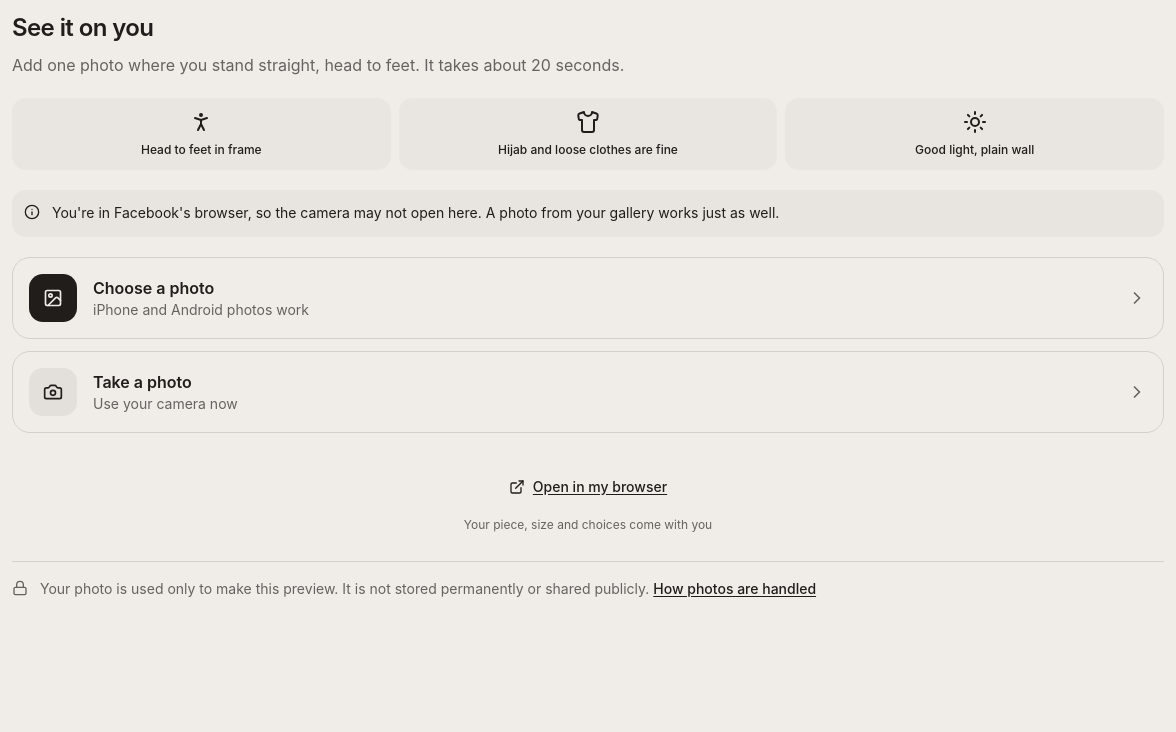
Test: the photo step inside an app › copies the link on iOS and says where to open it, or shows it to copy by hand
Click the button "Open in my browser" at (588, 487), box top-left (493, 465), bottom-right (683, 509)
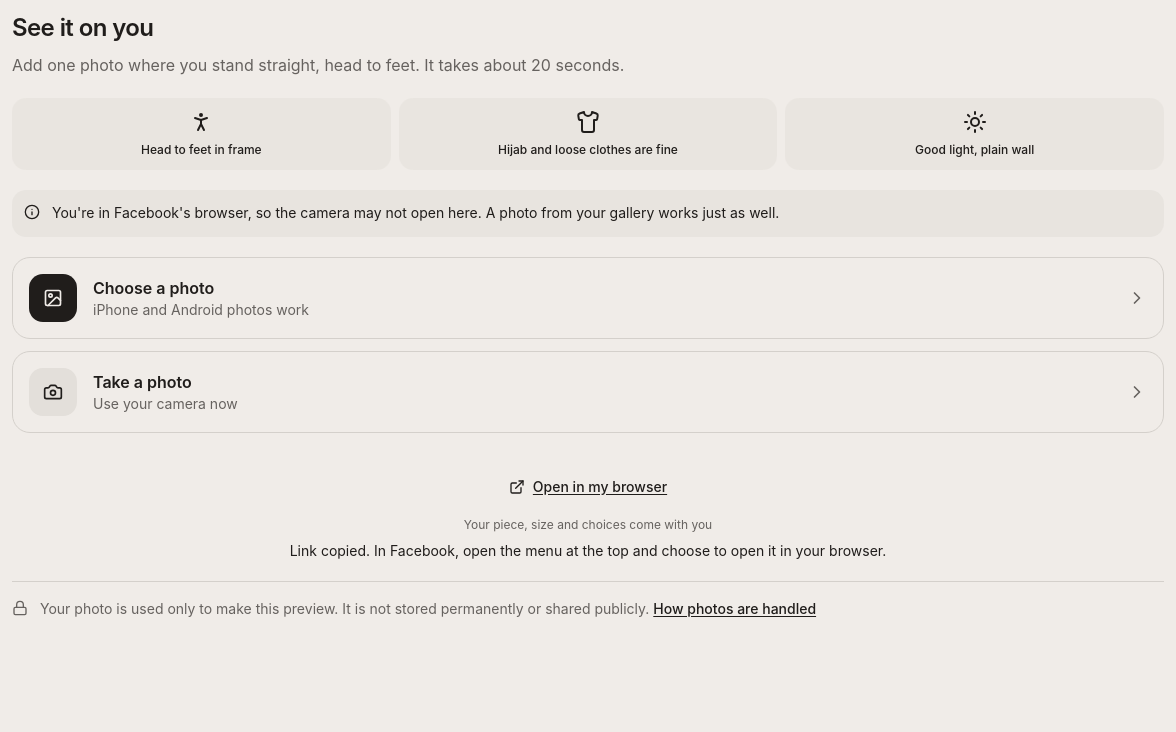
expect the text "Link copied. In Facebook, open the menu at the top and choose to open it in your browser." is shown: met, box top-left (290, 542), bottom-right (886, 559)
Click the button "Open in my browser" at (588, 487), box top-left (493, 465), bottom-right (683, 509)
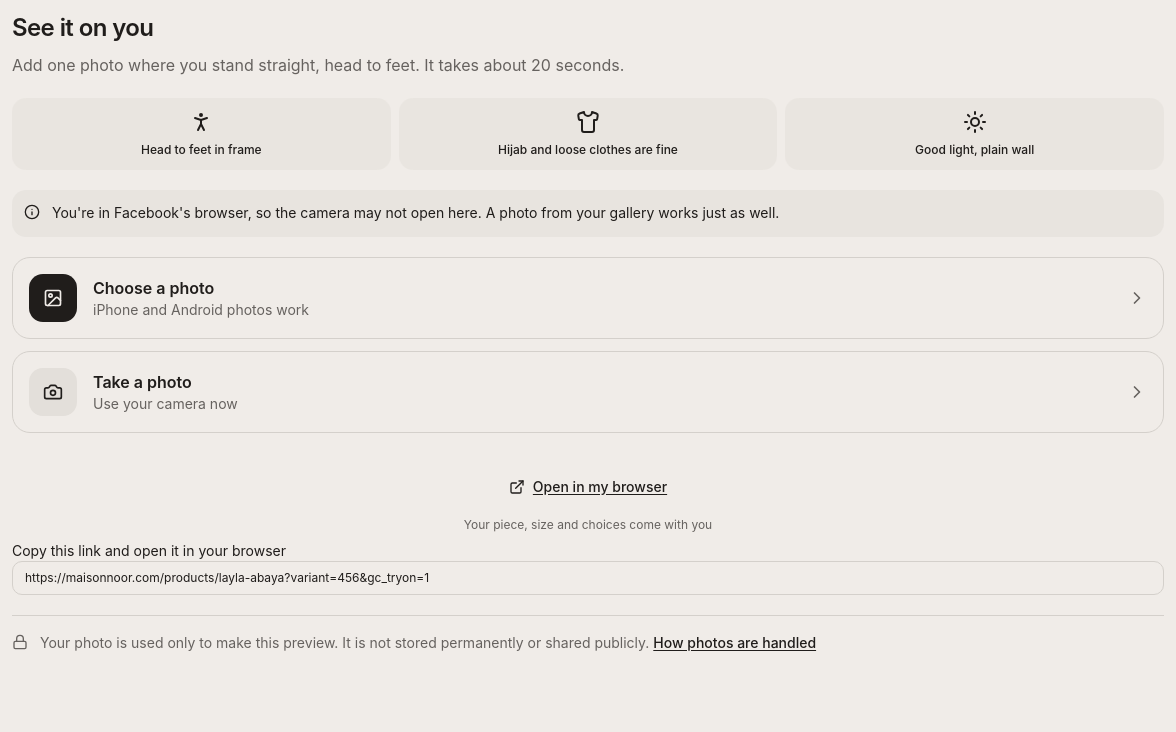
expect the field labelled "Copy this link and open it in your browser" holds "https://maisonnoor.com/products/layla-abaya?variant=456&gc_tryon=1": met, box top-left (12, 561), bottom-right (1164, 595)
